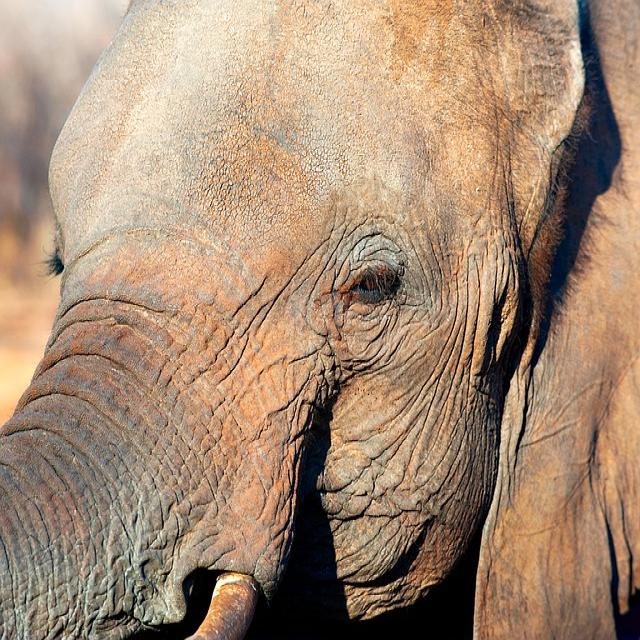elephant: (0, 4, 640, 638)
